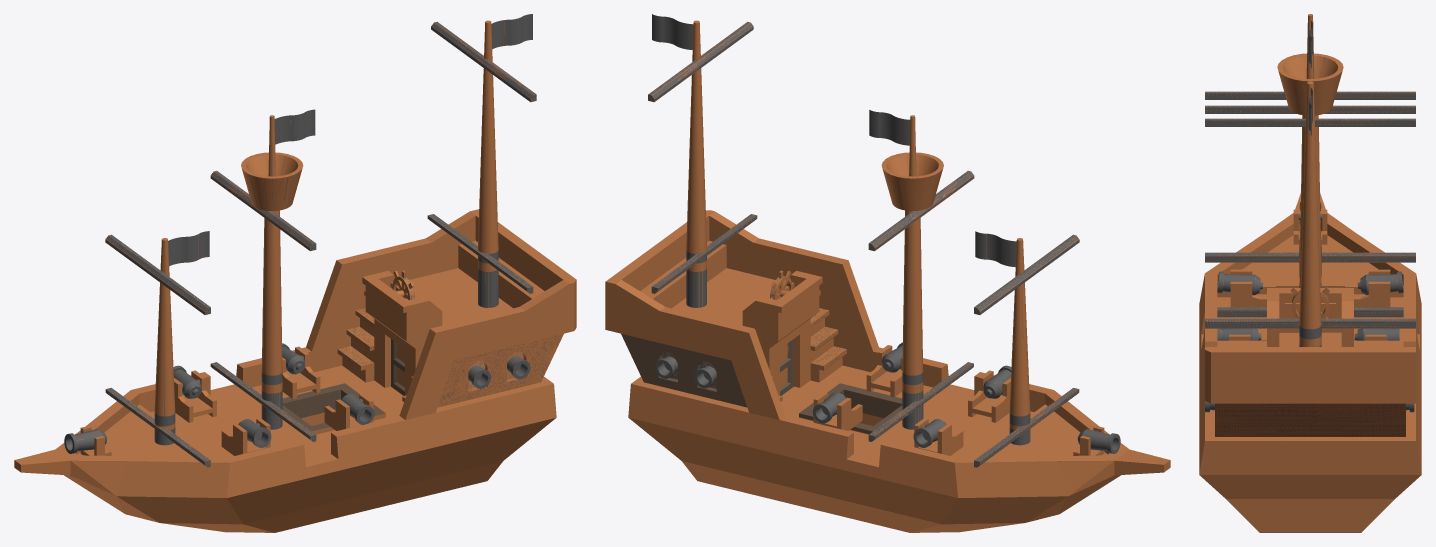
The model's file is ship2.glb.
The picture shows the model from 3 angles, left to right: view 1: azimuth 30°, elevation 25°; view 2: azimuth 150°, elevation 25°; view 3: azimuth 270°, elevation 25°; orthographic projection. The views are drawn at different scales.
Bounding box in the file's own units: 8.1 × 6.55 × 2.85.
Materials: 1 (1 with a texture image).
